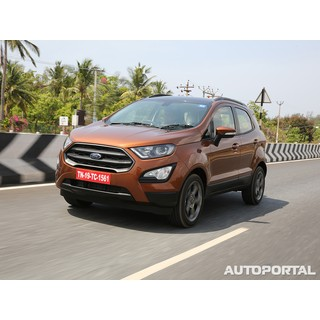car: (57, 95, 268, 229)
